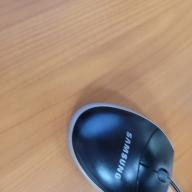mouse: (66, 99, 176, 192)
